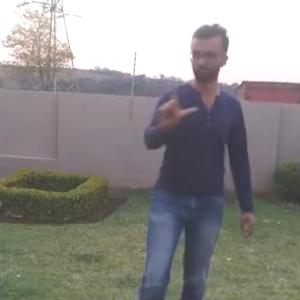land_hand: (151, 73, 201, 134)
